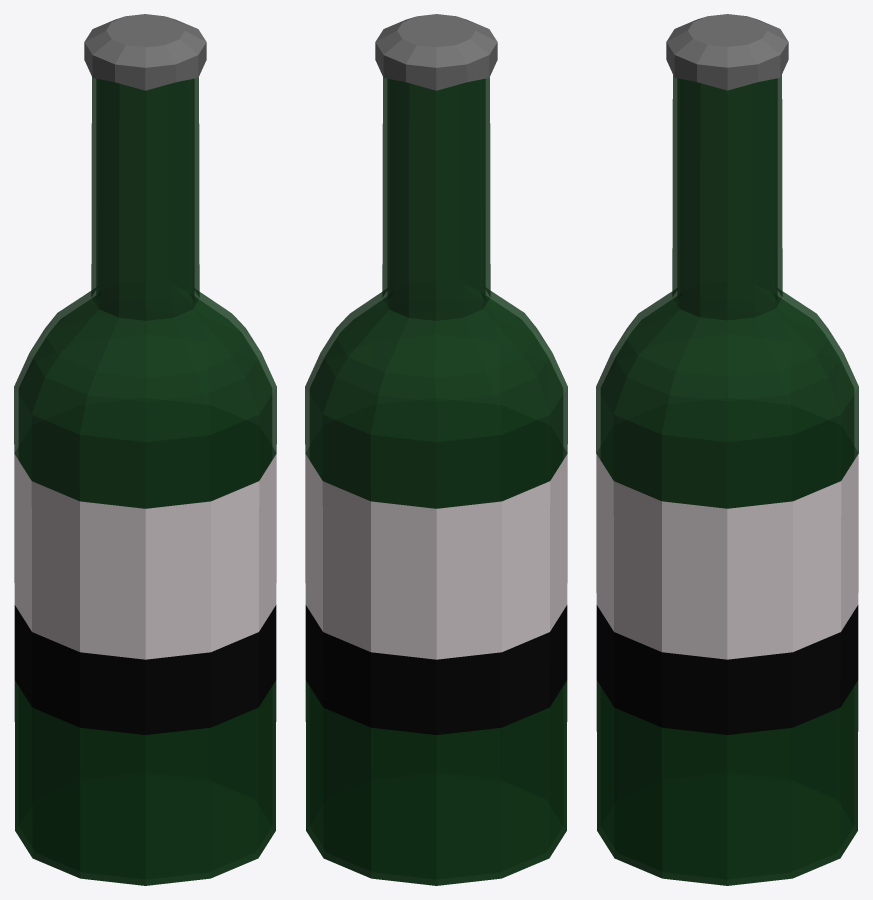
Rendered from Beer Bottle 2.fbx.
3 views of the same model, side by side, from view 1: azimuth 30°, elevation 25°; view 2: azimuth 150°, elevation 25°; view 3: azimuth 270°, elevation 25° (orthographic).
Visible parts, largest first — view 1: Beer Bottle 2, Bottle Cap; view 2: Beer Bottle 2, Bottle Cap; view 3: Beer Bottle 2, Bottle Cap.
Part boxes in pixels (bbox=[...]): Beer Bottle 2: bbox=[14, 77, 276, 885]; Bottle Cap: bbox=[84, 14, 206, 90]; Beer Bottle 2: bbox=[305, 77, 567, 885]; Bottle Cap: bbox=[375, 14, 497, 90]; Beer Bottle 2: bbox=[596, 75, 858, 885]; Bottle Cap: bbox=[666, 14, 788, 90].
Bounding box in the file's own units: 115 × 386 × 115.
